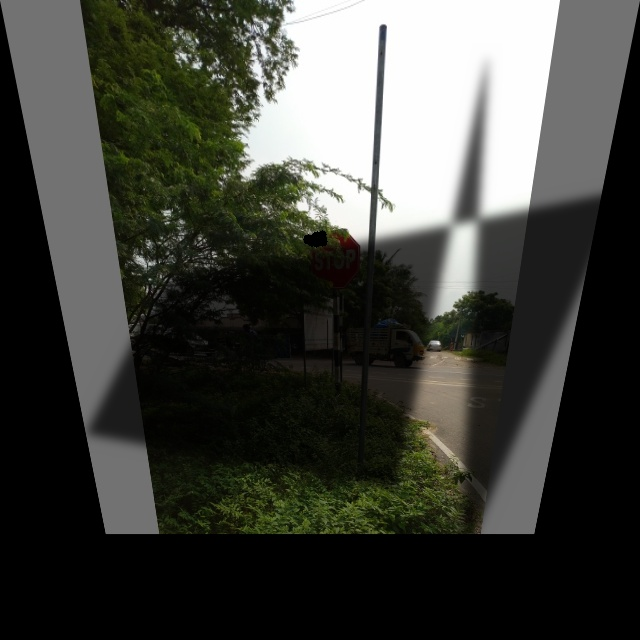Stop: (311, 230, 359, 291)
